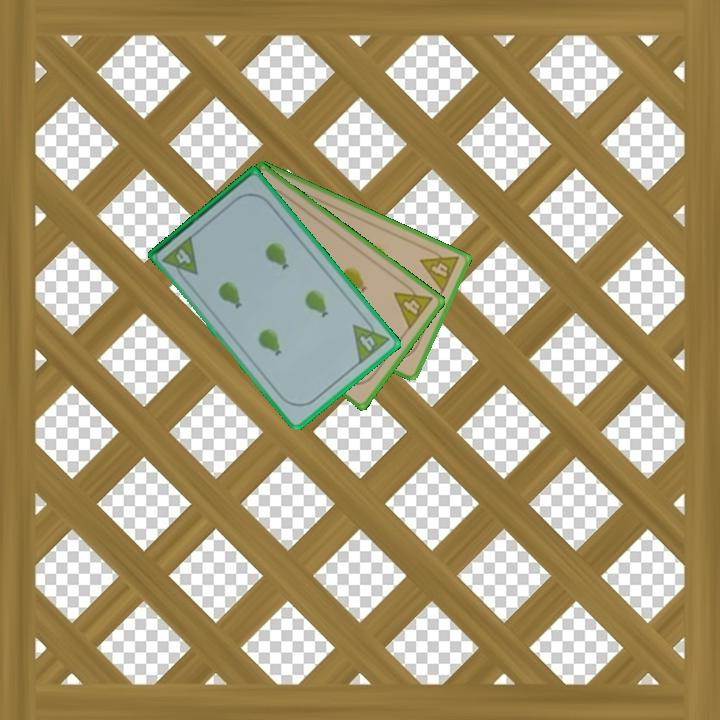4p: (390, 278, 436, 332), (417, 243, 462, 295), (349, 313, 392, 367), (159, 232, 201, 285)
